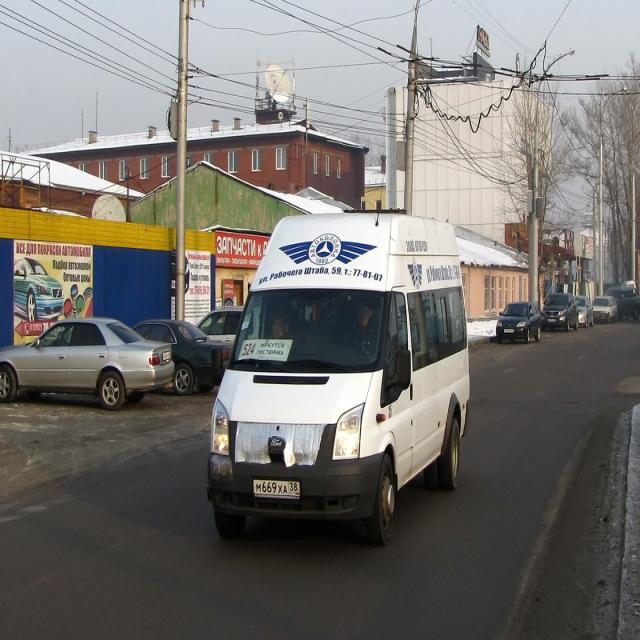number-of-bus: (243, 342, 260, 359)
